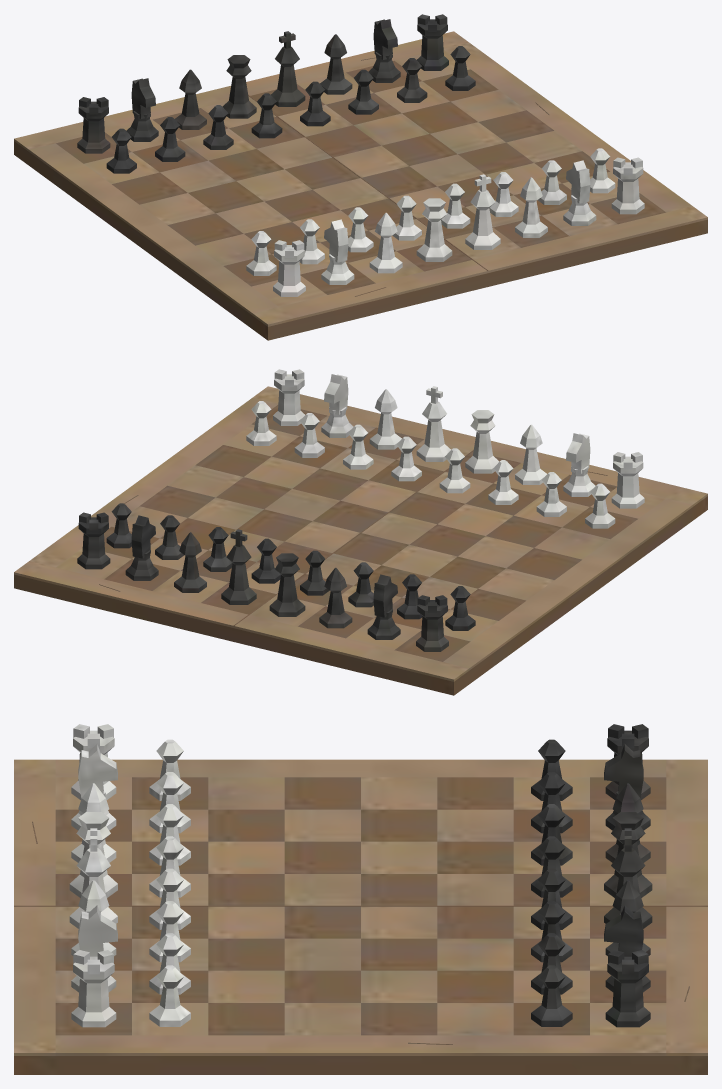
The model's file is SP05_chess_set.glb.
3 views of the same model, one above another, from view 1: azimuth 30°, elevation 25°; view 2: azimuth 150°, elevation 25°; view 3: azimuth 270°, elevation 25° (orthographic). The views are drawn at different scales.
Parts seen in each view (by area): view 1: Board body; view 2: Board body; view 3: Board body.
Part boxes in pixels (x1=…): Board body: x1=14, y1=14, x2=707, y2=340; Board body: x1=14, y1=369, x2=707, y2=695; Board body: x1=14, y1=724, x2=707, y2=1074.
Bounding box in the file's own units: 0.4 × 0.073 × 0.4.
Materials: 4 (4 with a texture image).
